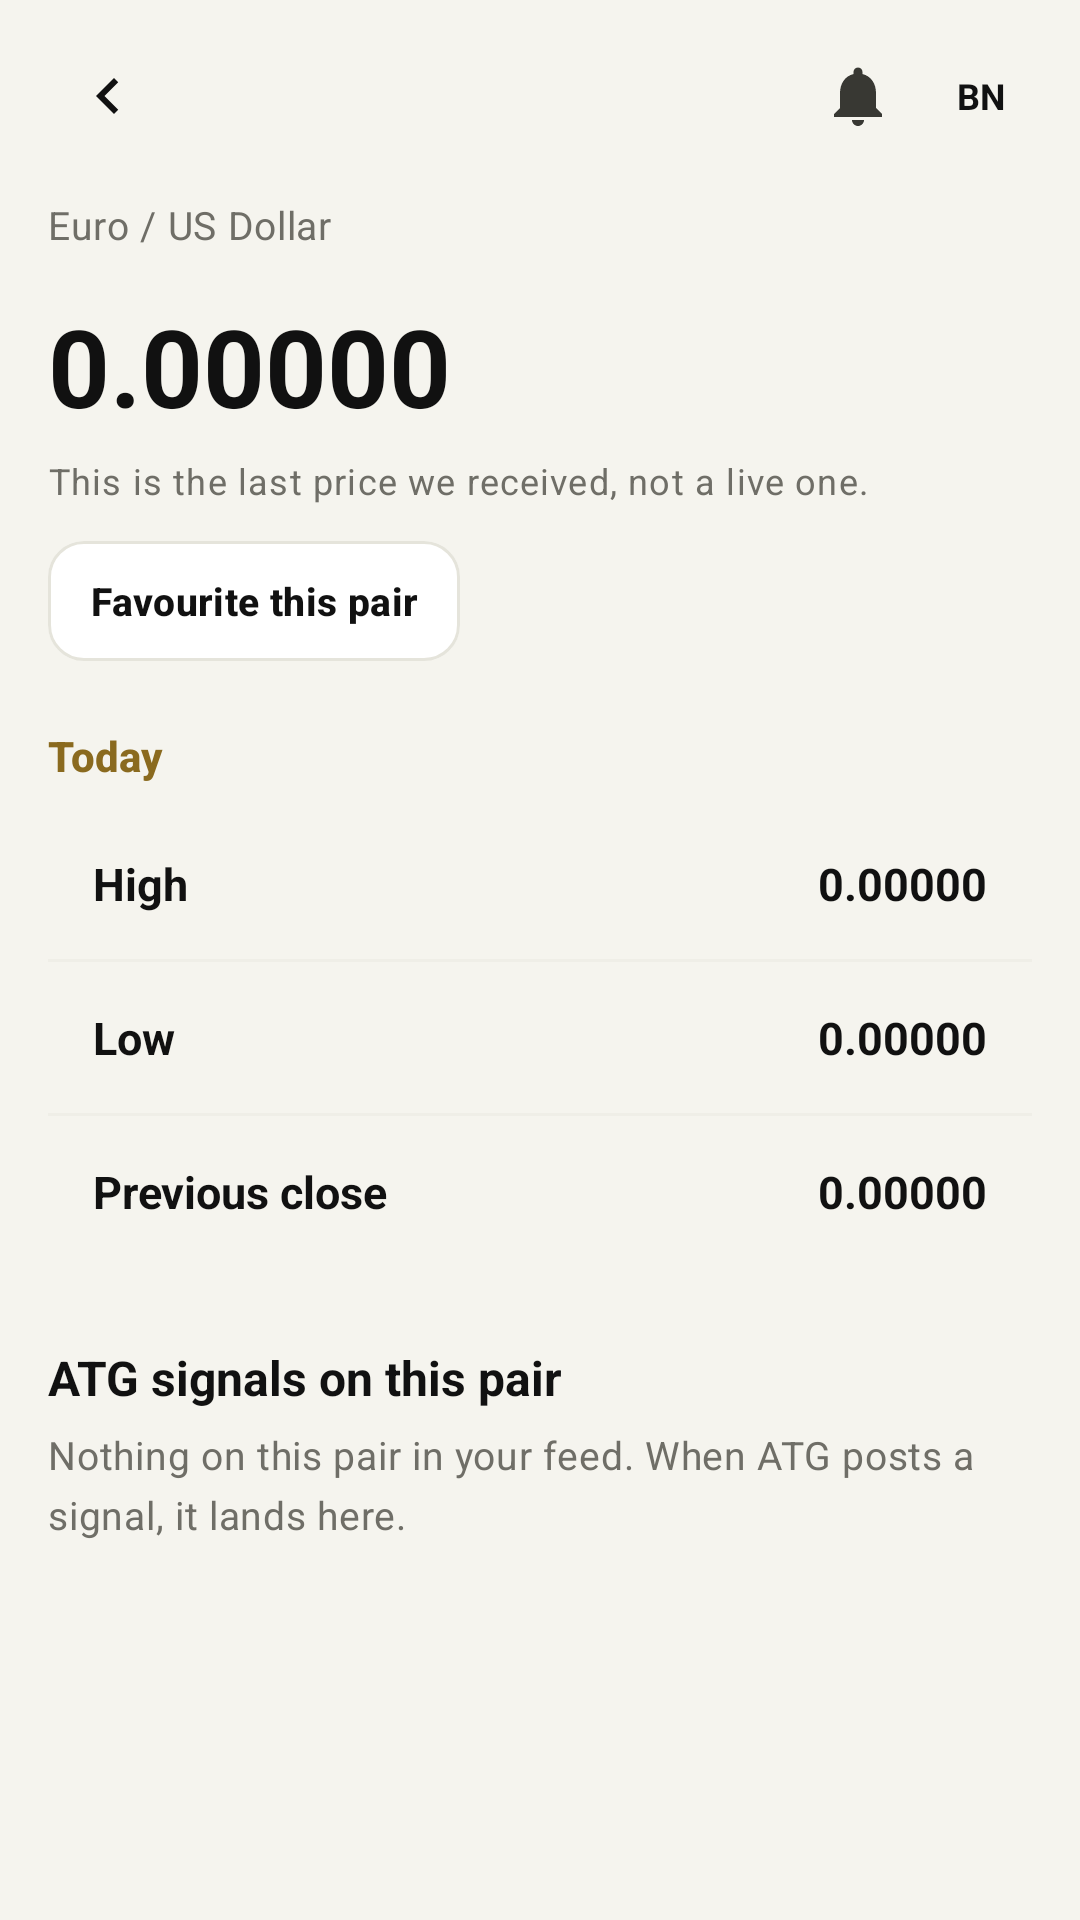

Where icons sit on this 1080x1920 app screen, as (x1,y1,x2,y2):
Back: (96,78,118,114)
Notifications: (834,67,882,126)
